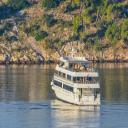cruises: (51, 48, 103, 108)
